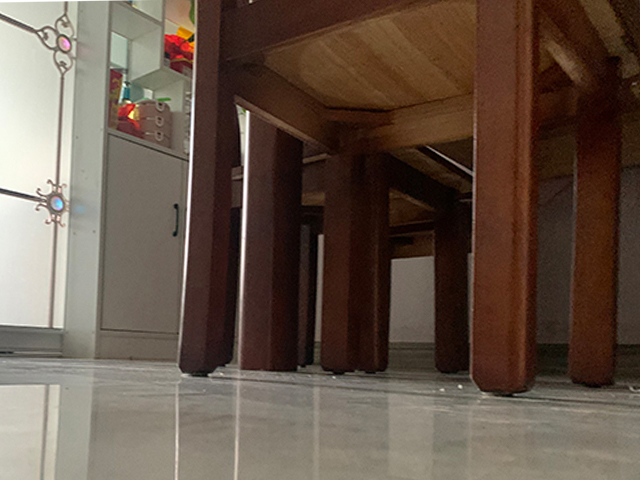cabinet: (91, 128, 194, 360)
stool: (175, 1, 621, 398)
